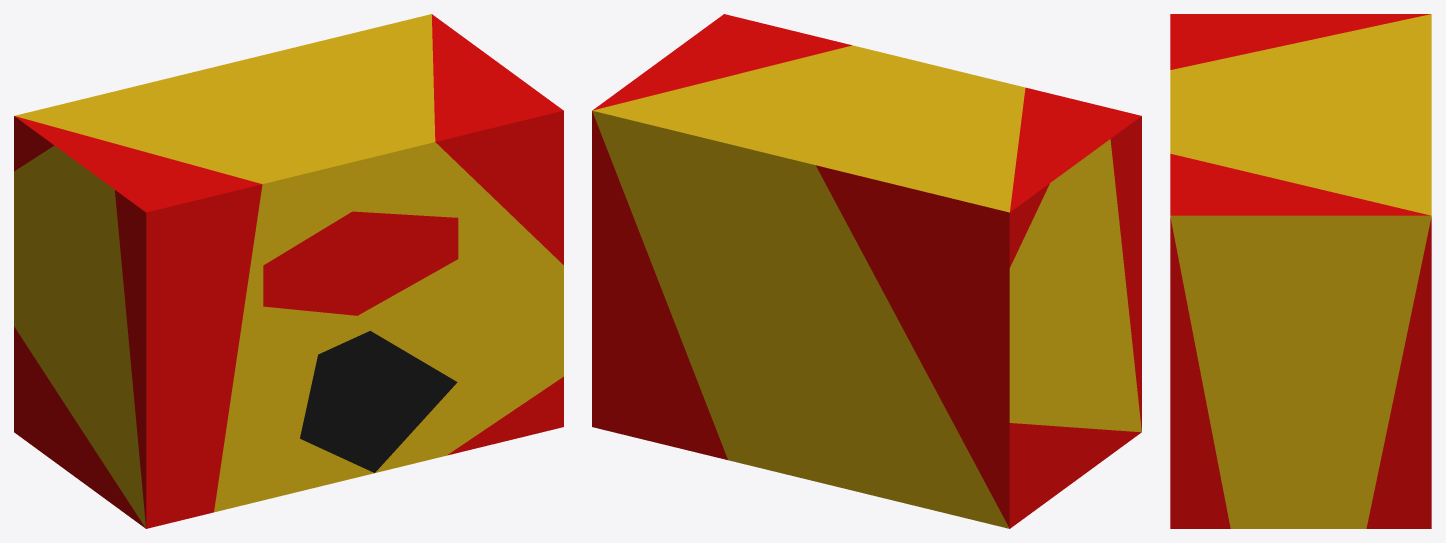
The model's file is cay.fbx.
3 renders of one model, left to right at view 1: azimuth 30°, elevation 25°; view 2: azimuth 150°, elevation 25°; view 3: azimuth 270°, elevation 25°, orthographic.
Visible parts, largest first — view 1: Cube; view 2: Cube; view 3: Cube.
Boxes of the visible parts, box(x1,y1,x2,y2) form: Cube: box(14, 14, 563, 528); Cube: box(592, 14, 1141, 528); Cube: box(1170, 14, 1431, 528).
Size of the model in its own units: 200 by 145 by 110.
